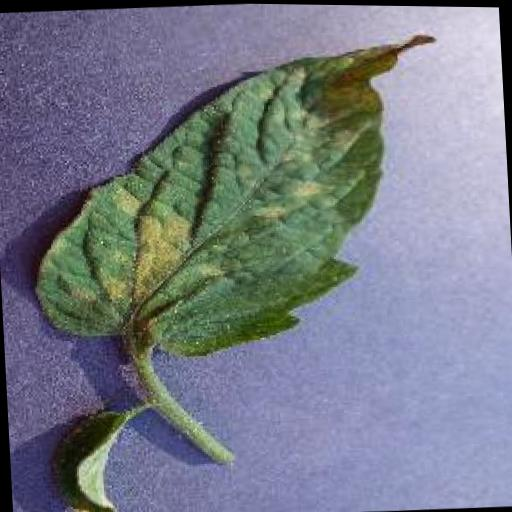Leaf Mold: (20, 28, 444, 368)
